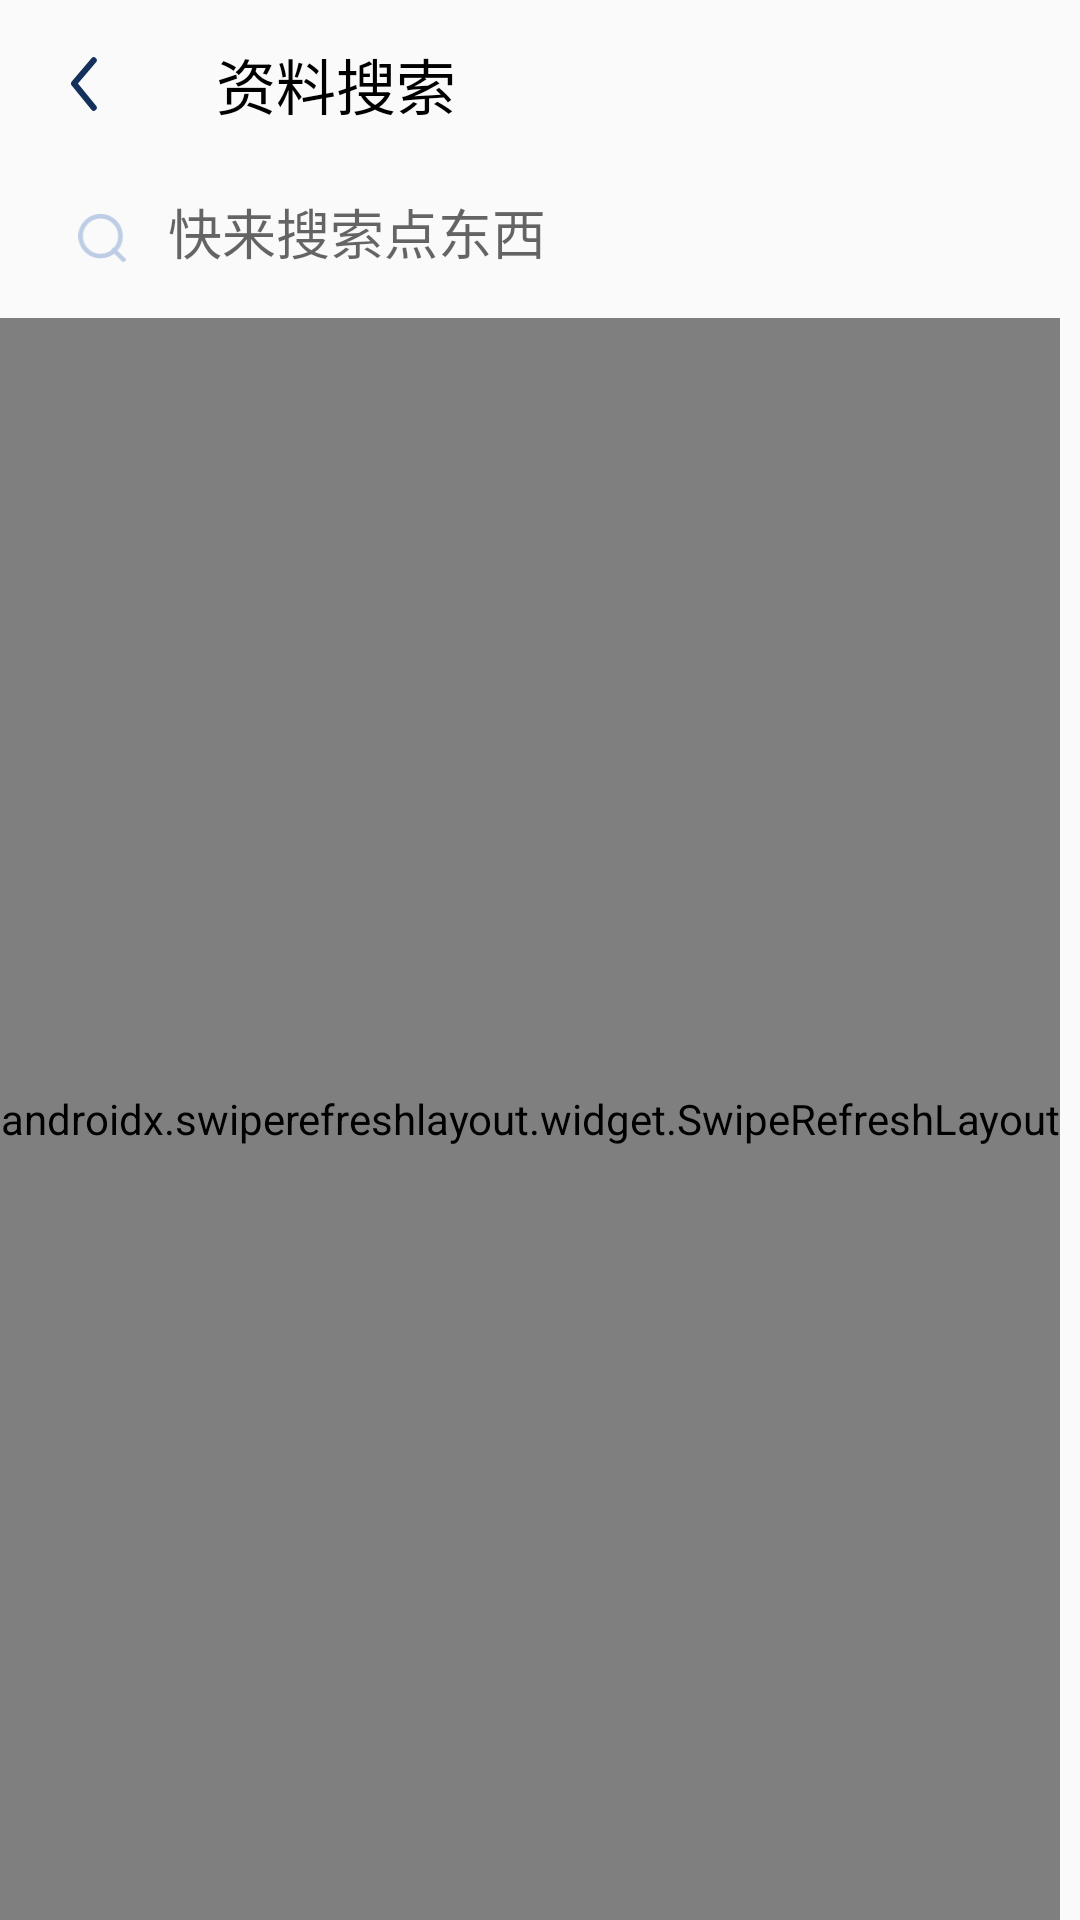

Named icons in this screenshot (1080 x 1920) and their bounding boxes, (x1,y1,x2,y2):
search: (78,214,126,262)
